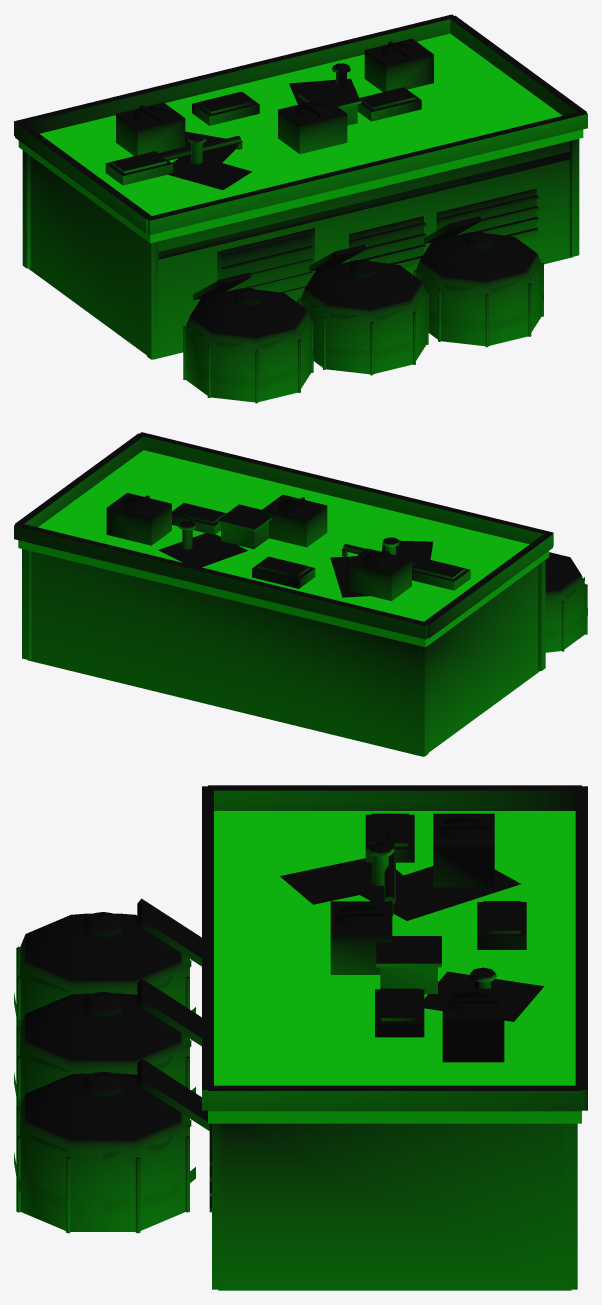
Rendered from wasteprocessor.glb.
The picture shows the model from 3 angles, top to bottom: view 1: azimuth 30°, elevation 25°; view 2: azimuth 150°, elevation 25°; view 3: azimuth 270°, elevation 25°; orthographic projection. The views are drawn at different scales.
Visible parts, largest first — view 1: lod0; view 2: lod0; view 3: lod0.
Part boxes in pixels (x1,y1,x2,y2): lod0: [14, 14, 587, 403]; lod0: [14, 432, 587, 756]; lod0: [14, 785, 587, 1290].
Size of what is drawn, in the model's own units: 17.6 by 6.24 by 13.97.
